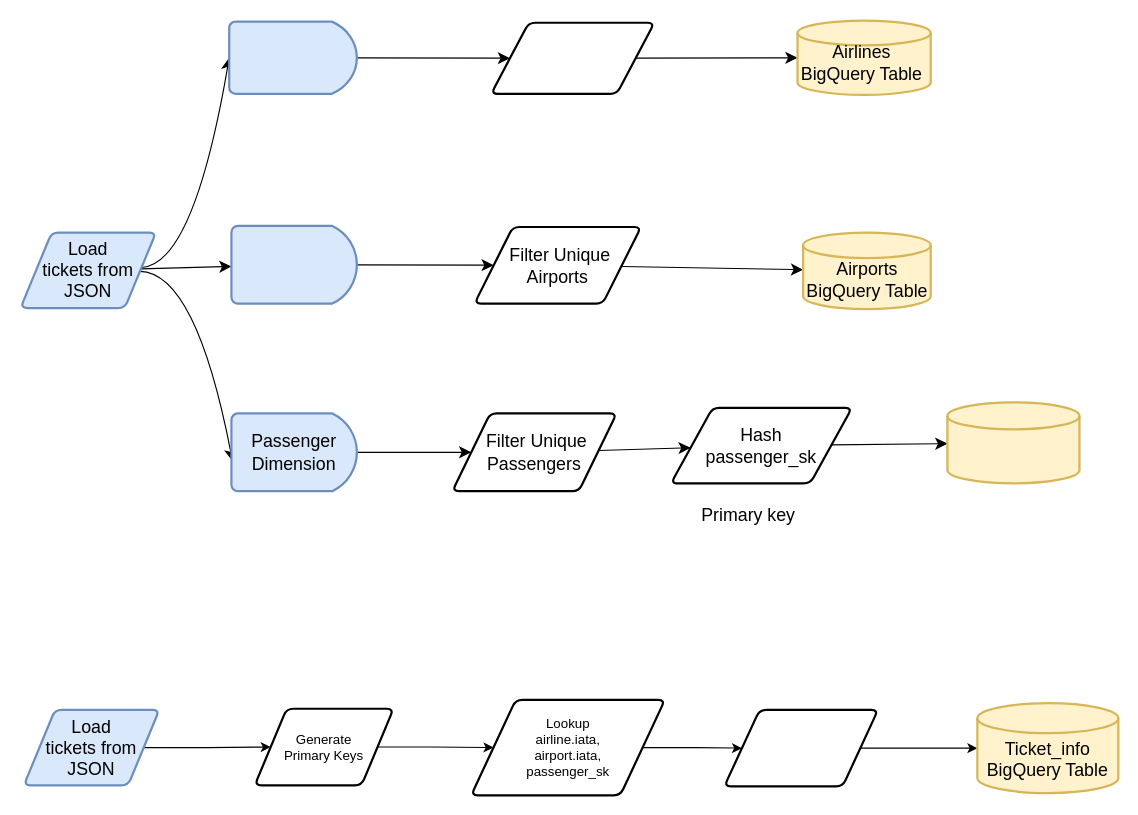
Image size: 1138x815. Some labels were removed from this diagram. Here are the shapes that lost their labels. From the top down, the centre of each, then its label:
(292,57): Airlines Dimension
(572,57): Filter Unique Airlines
(293,264): Airport Dimension
(1013,442): Passengers BigQuery Table
(801,747): Load Tabels
